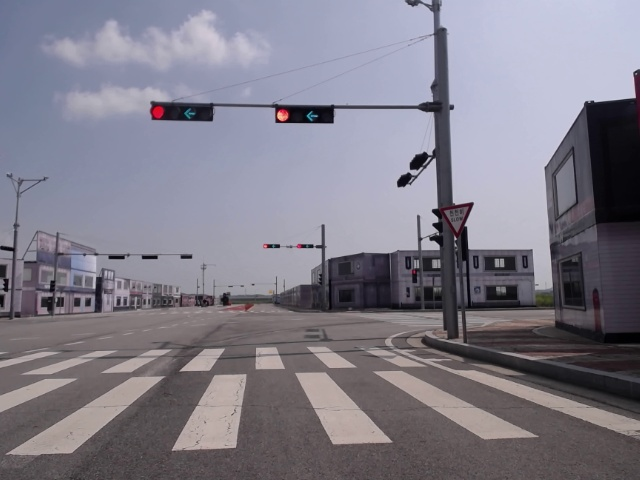left_green_4: (275, 106, 334, 124), (150, 103, 214, 119)
